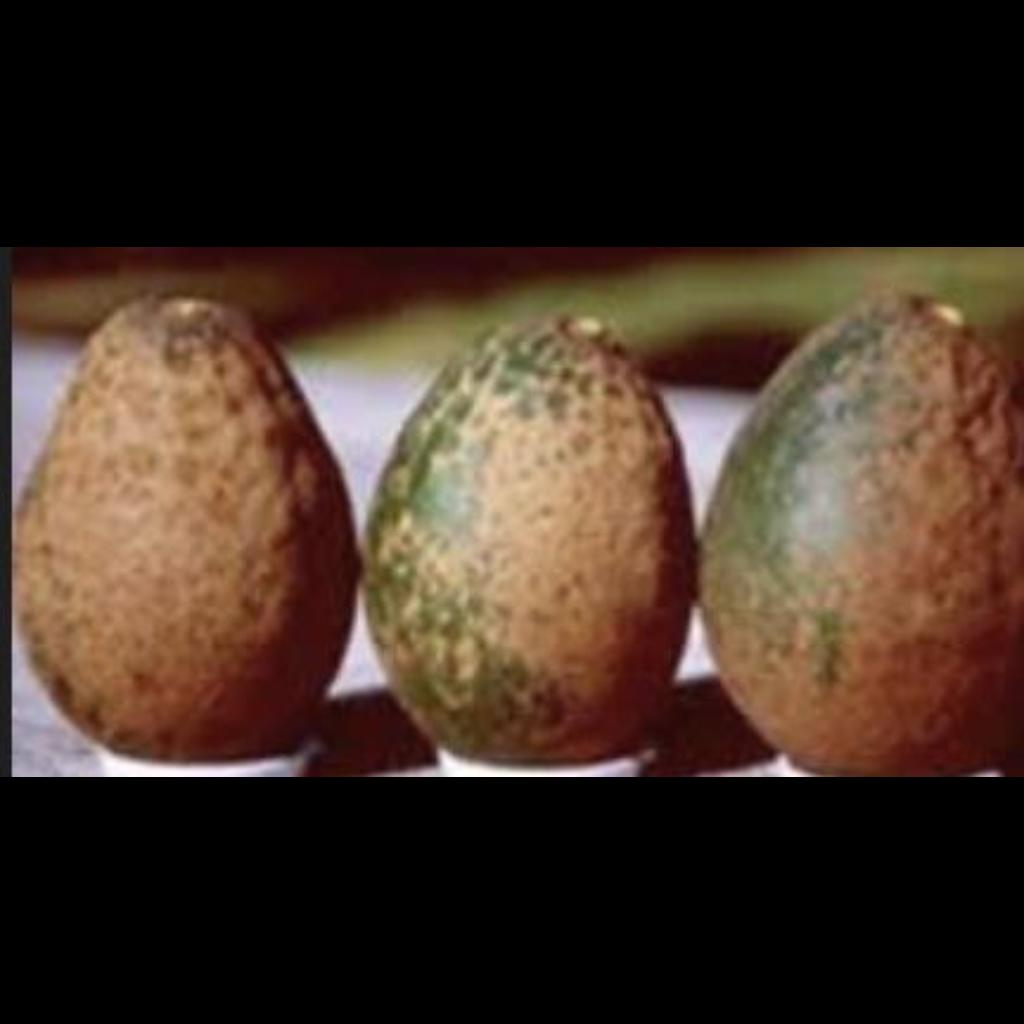antracnosis_fruto: (718, 296, 1024, 778), (28, 313, 342, 779), (387, 321, 698, 774)
